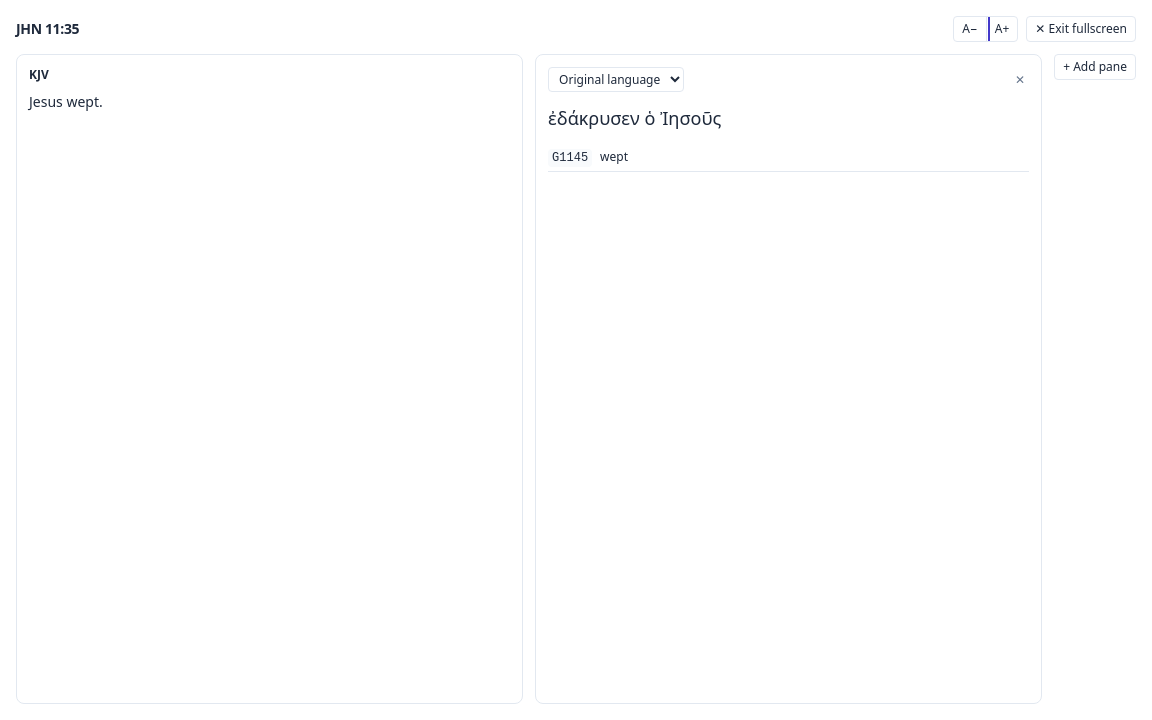
Test case: VerseFullscreen › switches an extra pane to another translation
Select "NIV" in the dropdown named "pane 1 content": (616, 80) [548, 67, 684, 92]
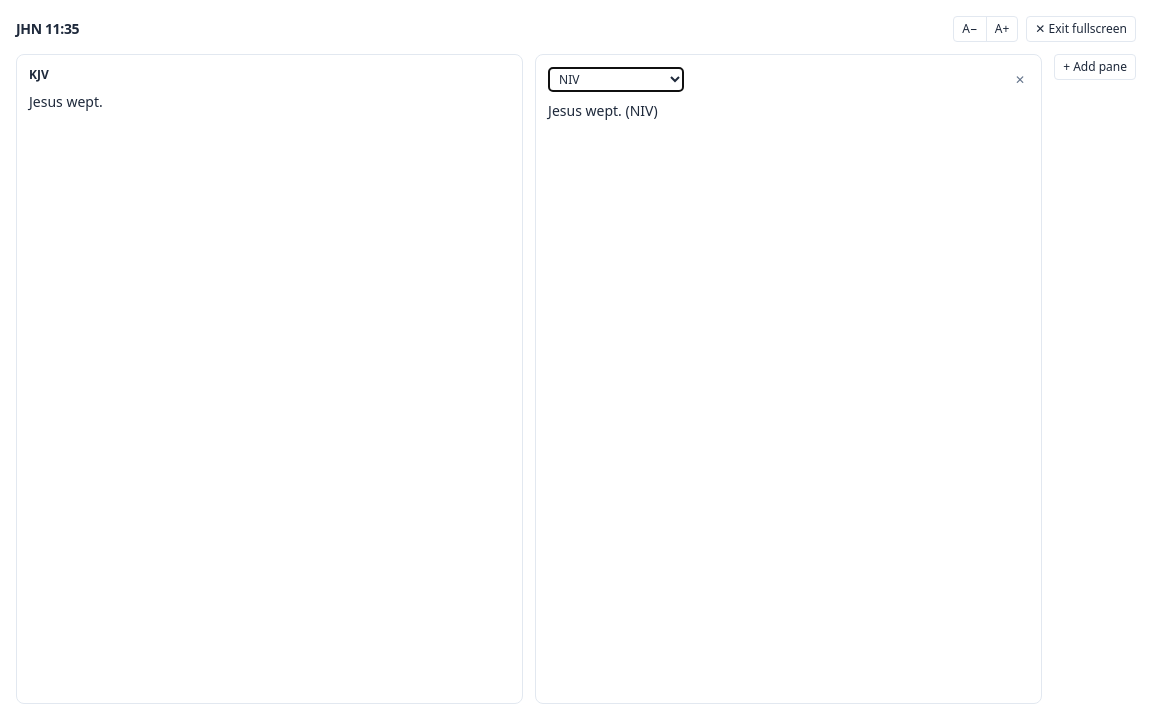
Expected: the text "Jesus wept. (NIV)" is shown, [548, 101, 658, 120]
